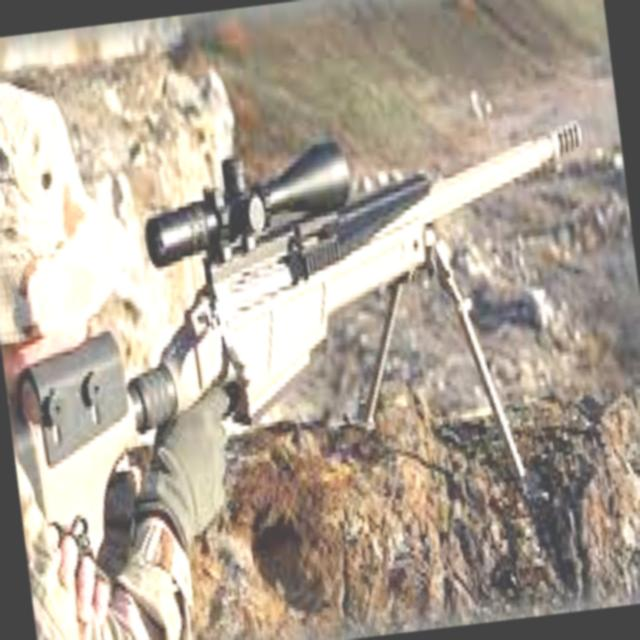rifle: (0, 95, 640, 560)
